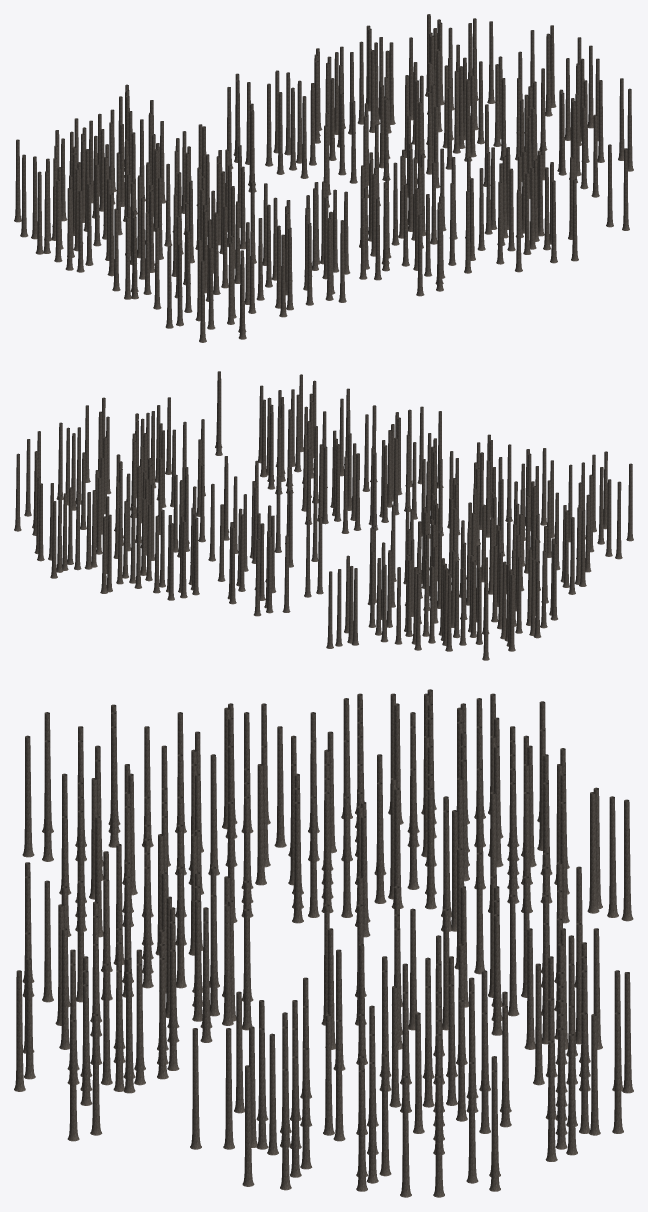
The model's file is treeStand.fbx.
The picture shows the model from 3 angles, top to bottom: view 1: azimuth 30°, elevation 25°; view 2: azimuth 150°, elevation 25°; view 3: azimuth 270°, elevation 25°; orthographic projection. The views are drawn at different scales.
Parts seen in each view (by area): view 1: no part large enough to name; view 2: treeStand.046, treeStand.183; view 3: treeStand.546, treeStand.811, treeStand.005, treeStand.876, treeStand.098, treeStand.401, treeStand.397, treeStand.782, treeStand.742, treeStand.541, treeStand.329, treeStand.851 (+78 smaller).
Part boxes in pixels (box(x1,y1,x2,y2)): treeStand.046: box(508, 574, 515, 651); treeStand.183: box(294, 394, 301, 472); treeStand.546: box(479, 1012, 490, 1133); treeStand.811: box(356, 1070, 367, 1191); treeStand.005: box(566, 1033, 577, 1155); treeStand.876: box(612, 1012, 623, 1133); treeStand.098: box(341, 796, 352, 917); treeStand.401: box(210, 894, 219, 1016); treeStand.397: box(489, 1070, 500, 1191); treeStand.782: box(134, 963, 145, 1085); treeStand.742: box(255, 764, 266, 885); treeStand.541: box(622, 972, 633, 1093); treeStand.329: box(267, 1033, 278, 1155); treeStand.851: box(607, 796, 618, 917).
Size of the model in its own units: 5574 by 782 by 3731.
